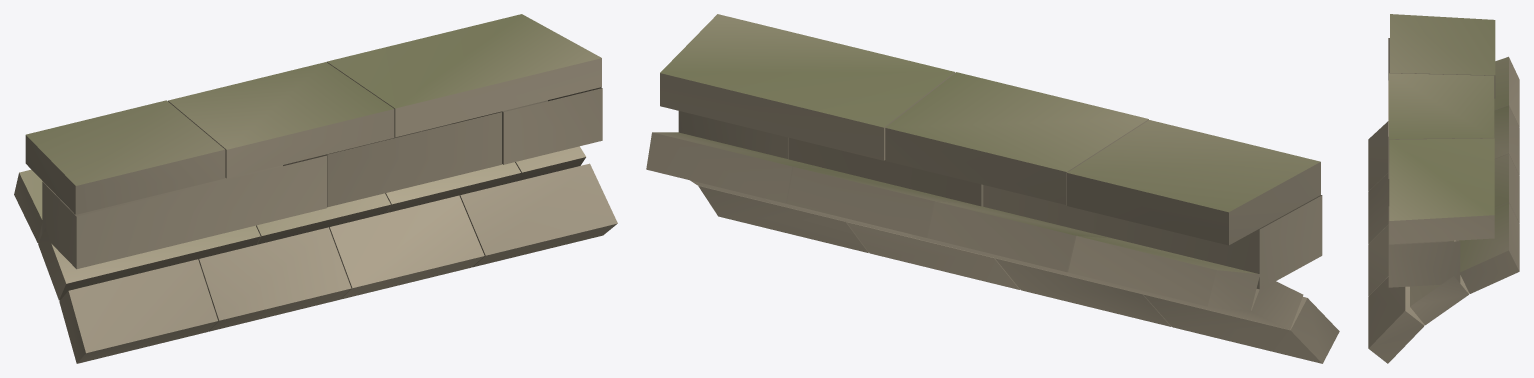
File: arena_vault_broken_b_mid.glb
3 views of the same model, side by side, from view 1: azimuth 30°, elevation 25°; view 2: azimuth 150°, elevation 25°; view 3: azimuth 270°, elevation 25° (orthographic). The views are drawn at different scales.
Parts seen in each view (by area): view 1: arena_vault_broken_b_mid; view 2: arena_vault_broken_b_mid; view 3: arena_vault_broken_b_mid.
Boxes of the visible parts, x1,y1,x2,y2 form: arena_vault_broken_b_mid: (14,14,617,363); arena_vault_broken_b_mid: (646,14,1339,363); arena_vault_broken_b_mid: (1368,14,1519,363).
Bounding box in the file's own units: 18.69 × 5.94 × 5.69.
